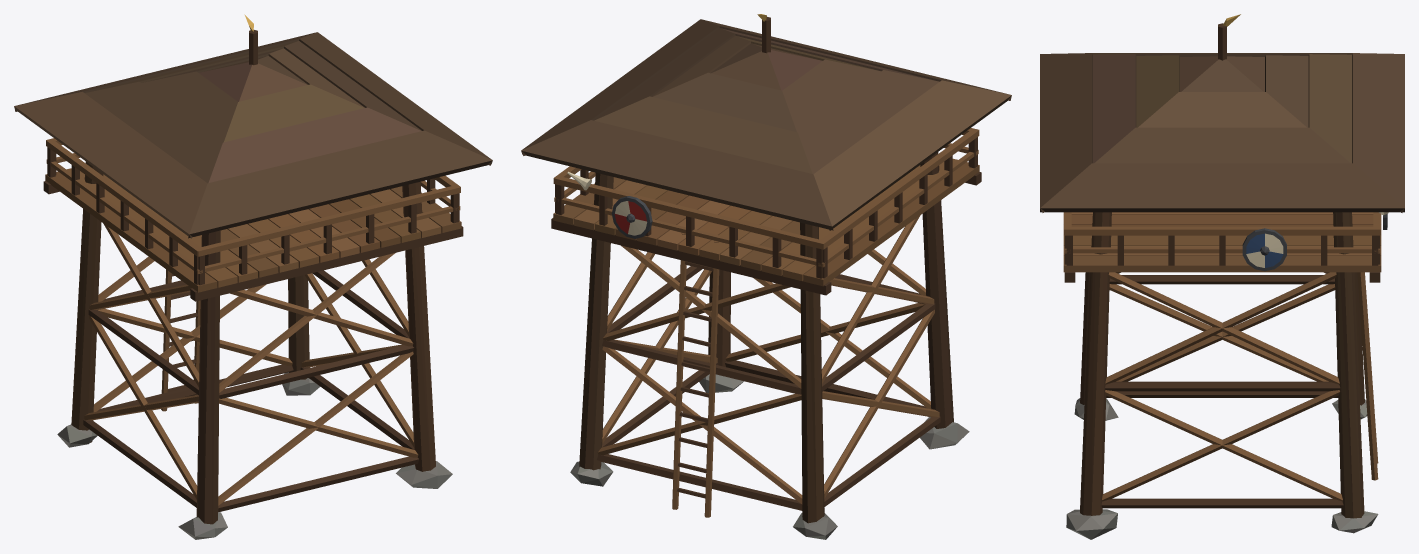
Rendered from Watchtower.glb.
The picture shows the model from 3 angles, left to right: view 1: azimuth 30°, elevation 25°; view 2: azimuth 150°, elevation 25°; view 3: azimuth 270°, elevation 25°; orthographic projection. The views are drawn at different scales.
Parts seen in each view (by area): view 1: Mat_Wood_4e3726, Mat_Wood_7a5636, Mat_Wood_473222, Mat_Stone_6e6c67, Mat_Stone_7a7872; view 2: Mat_Wood_4e3726, Mat_Wood_7a5636, Mat_Wood_473222, Mat_Stone_7a7872, Mat_Stone_6e6c67, Mat_Metal_424448; view 3: Mat_Wood_4e3726, Mat_Wood_7a5636, Mat_Wood_473222, Mat_Stone_7a7872, Mat_Stone_6e6c67, Mat_Metal_424448, Mat_Cloth_e0d2b2, Mat_Cloth_693e4d.
Boxes of the visible parts, x1,y1,x2,y2 form: Mat_Wood_4e3726: (14, 30, 492, 471); Mat_Wood_7a5636: (46, 138, 460, 505); Mat_Wood_473222: (14, 39, 492, 524); Mat_Stone_6e6c67: (69, 378, 452, 539); Mat_Stone_7a7872: (57, 372, 452, 539); Mat_Wood_4e3726: (521, 17, 1011, 523); Mat_Wood_7a5636: (553, 128, 979, 517); Mat_Wood_473222: (521, 26, 1011, 510); Mat_Stone_7a7872: (570, 374, 963, 539); Mat_Stone_6e6c67: (570, 379, 969, 536); Mat_Metal_424448: (611, 196, 652, 238); Mat_Wood_4e3726: (1040, 23, 1404, 518); Mat_Wood_7a5636: (1063, 212, 1381, 501); Mat_Wood_473222: (1040, 54, 1404, 508); Mat_Stone_7a7872: (1066, 399, 1377, 539); Mat_Stone_6e6c67: (1067, 398, 1377, 539); Mat_Metal_424448: (1242, 214, 1387, 271); Mat_Cloth_e0d2b2: (1246, 233, 1283, 267); Mat_Cloth_693e4d: (1246, 233, 1283, 267).
Size of the model in its own units: 17.22 by 24.13 by 17.22.
Materials: 1 (1 with a texture image).
